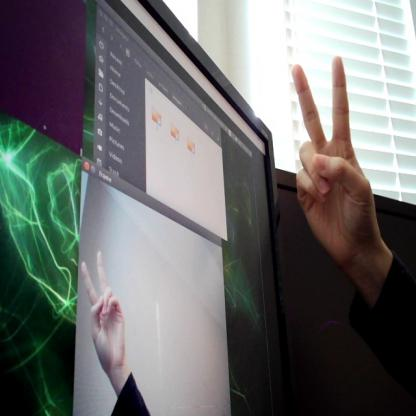two: (287, 51, 380, 263), (76, 252, 130, 372)
